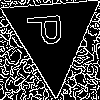P: (27, 11, 70, 48)
